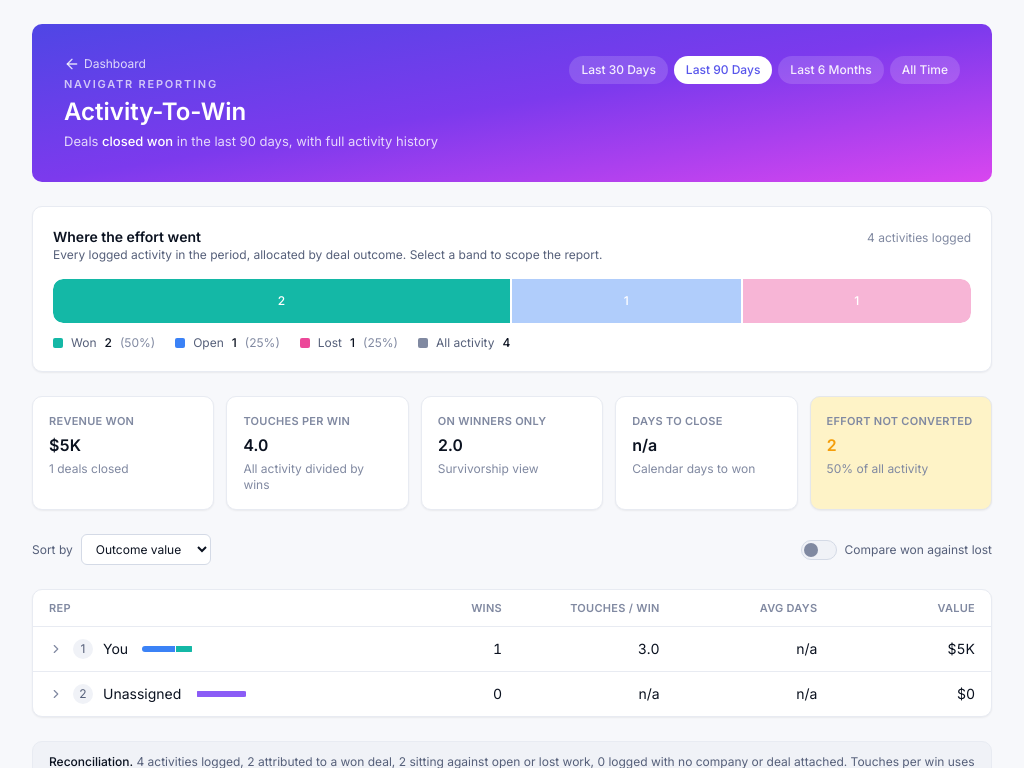
it: ActivityToWinReport › shows the Compare toggle only in the Won scope
Expected: the text "Compare won against lost" is shown, [800,540,992,560]
Click the 2nd button titled "Lost:": (857, 301) [742,279,971,323]
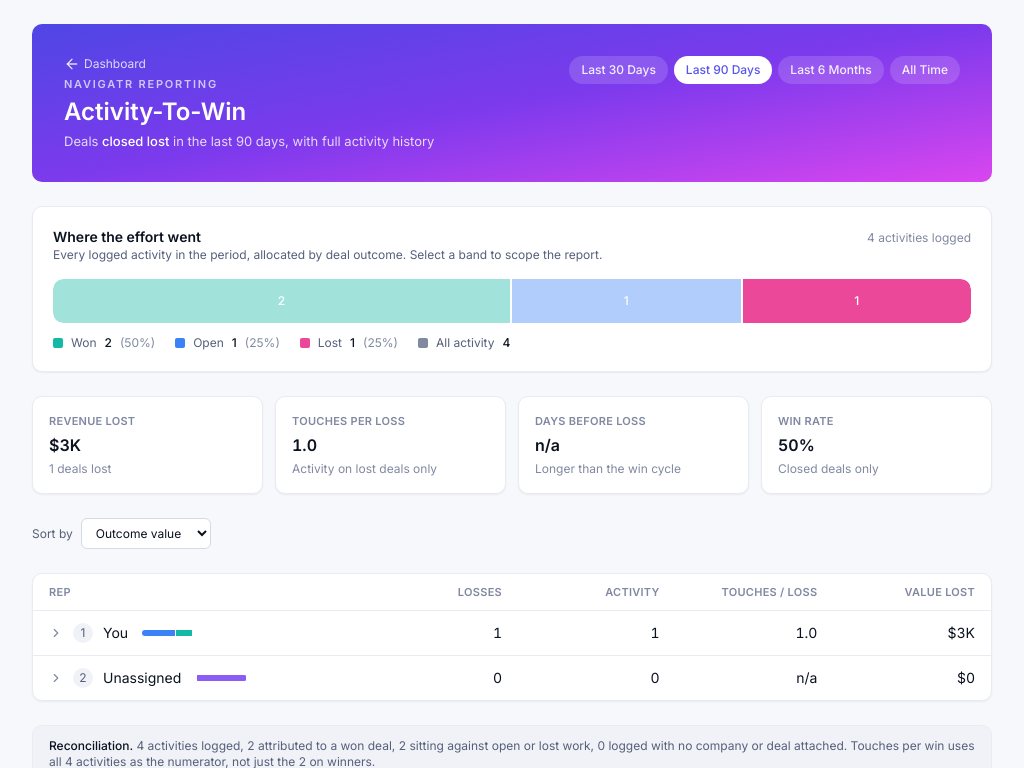
Result: the text "Compare won against lost" is gone
